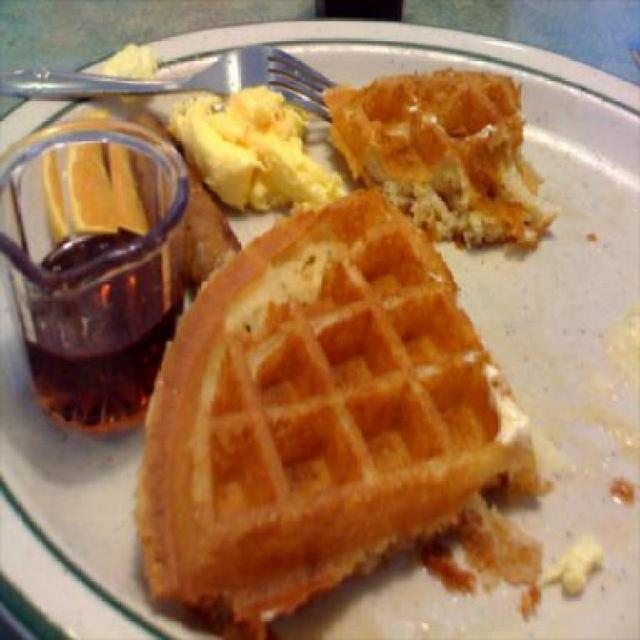Waffle: (132, 187, 531, 638), (314, 59, 562, 252)
